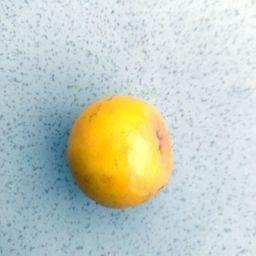Unripe: (68, 97, 173, 210)
